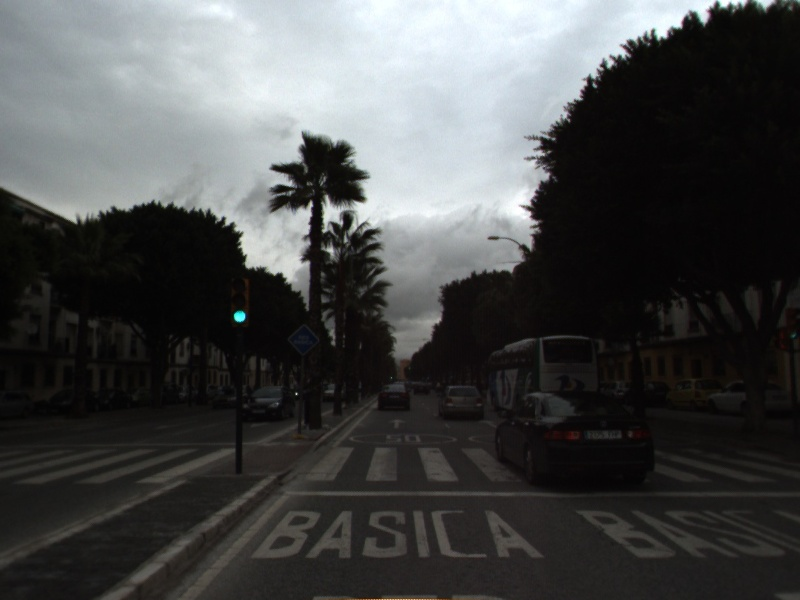STRAIGHT: (386, 417, 409, 431), (476, 417, 499, 429)
